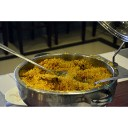briyani: (26, 59, 110, 88)
